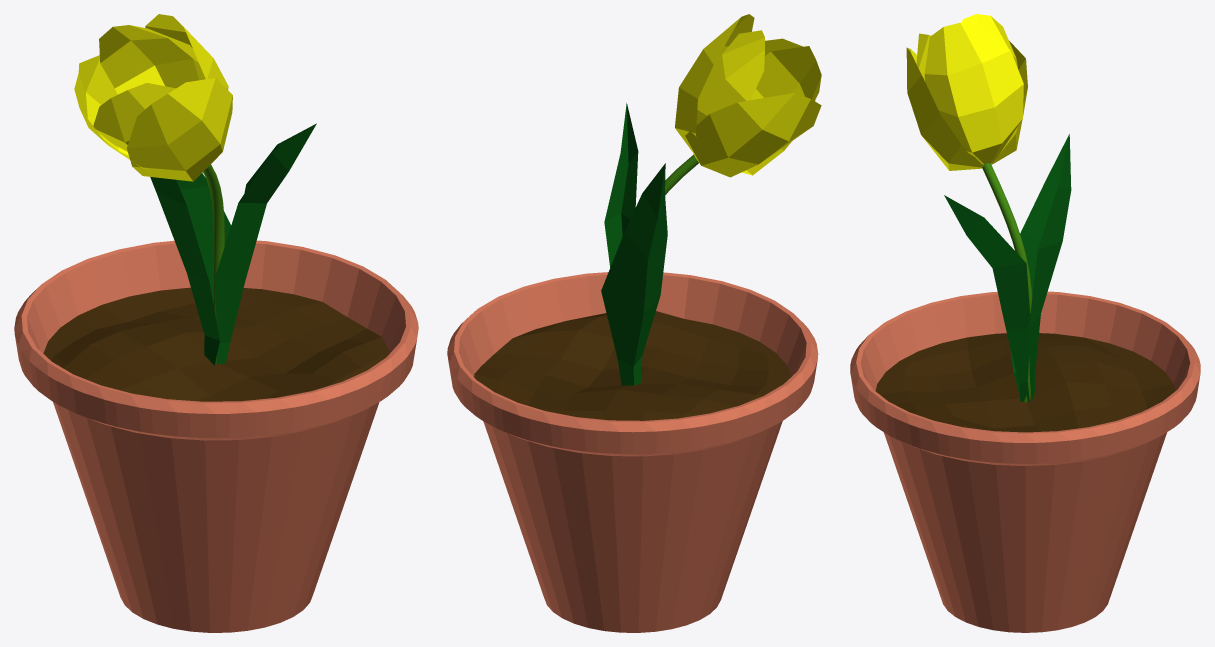
The model's file is flower_state_neutral.glb.
The picture shows the model from 3 angles, left to right: view 1: azimuth 30°, elevation 25°; view 2: azimuth 150°, elevation 25°; view 3: azimuth 270°, elevation 25°; orthographic projection. The views are drawn at different scales.
Parts seen in each view (by area): view 1: Pot, Dirt, Bulb, Leafs, Stem; view 2: Pot, Dirt, Bulb, Leafs; view 3: Pot, Dirt, Bulb, Leafs, Stem.
Boxes of the visible parts, <box> form: Pot: <box>14,240,418,632</box>; Dirt: <box>43,287,389,401</box>; Bulb: <box>74,14,232,181</box>; Leafs: <box>150,123,316,365</box>; Stem: <box>203,164,224,363</box>; Pot: <box>447,272,818,632</box>; Dirt: <box>474,311,791,420</box>; Bulb: <box>675,14,821,177</box>; Leafs: <box>601,103,667,385</box>; Pot: <box>850,291,1200,632</box>; Dirt: <box>875,333,1175,432</box>; Bulb: <box>906,14,1027,170</box>; Leafs: <box>944,134,1071,401</box>; Stem: <box>982,163,1032,402</box>.
Bounding box in the file's own units: 2.16 × 3.68 × 2.16.
